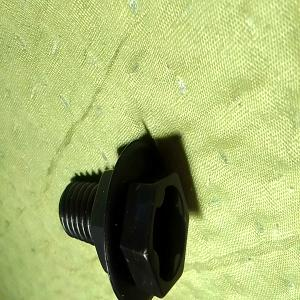parafuso: (56, 136, 190, 300)
